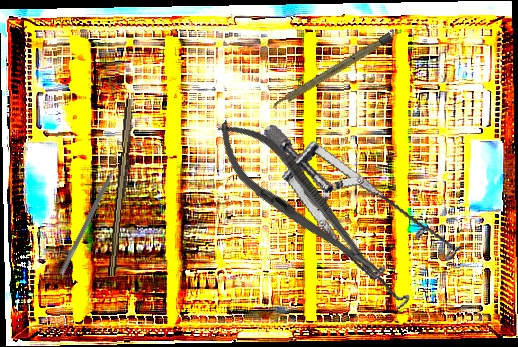Needle Holder: (202, 106, 397, 297)
Scalpel Handle: (270, 32, 394, 111), (107, 98, 137, 277)
Spatula Surgical: (58, 155, 127, 278)
Speculum: (260, 87, 475, 331)
